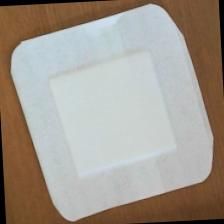Dressing: (5, 1, 220, 224)
